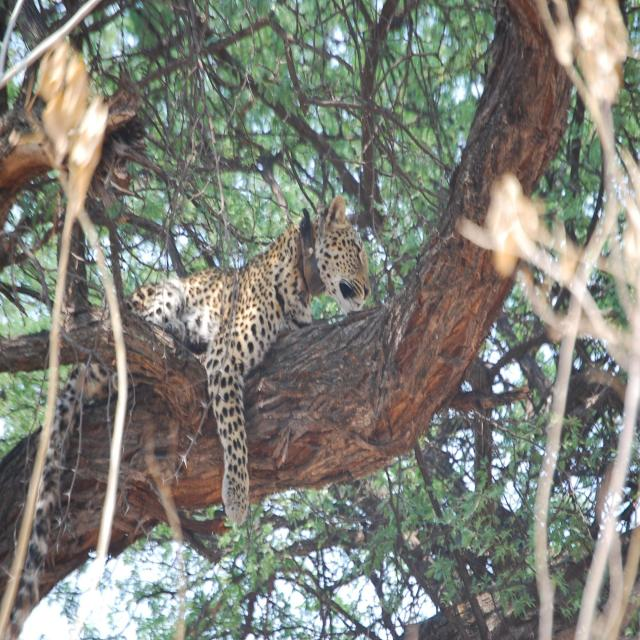Leopard: (11, 172, 415, 616)
